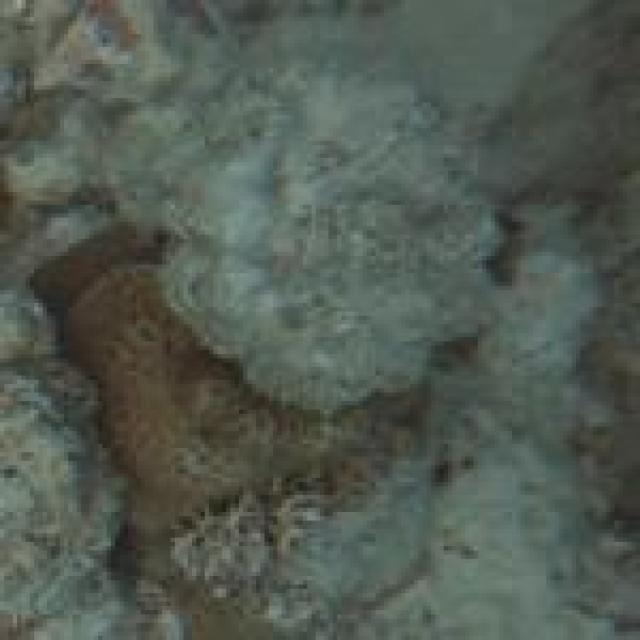Healthy Coral: (63, 242, 309, 524)
